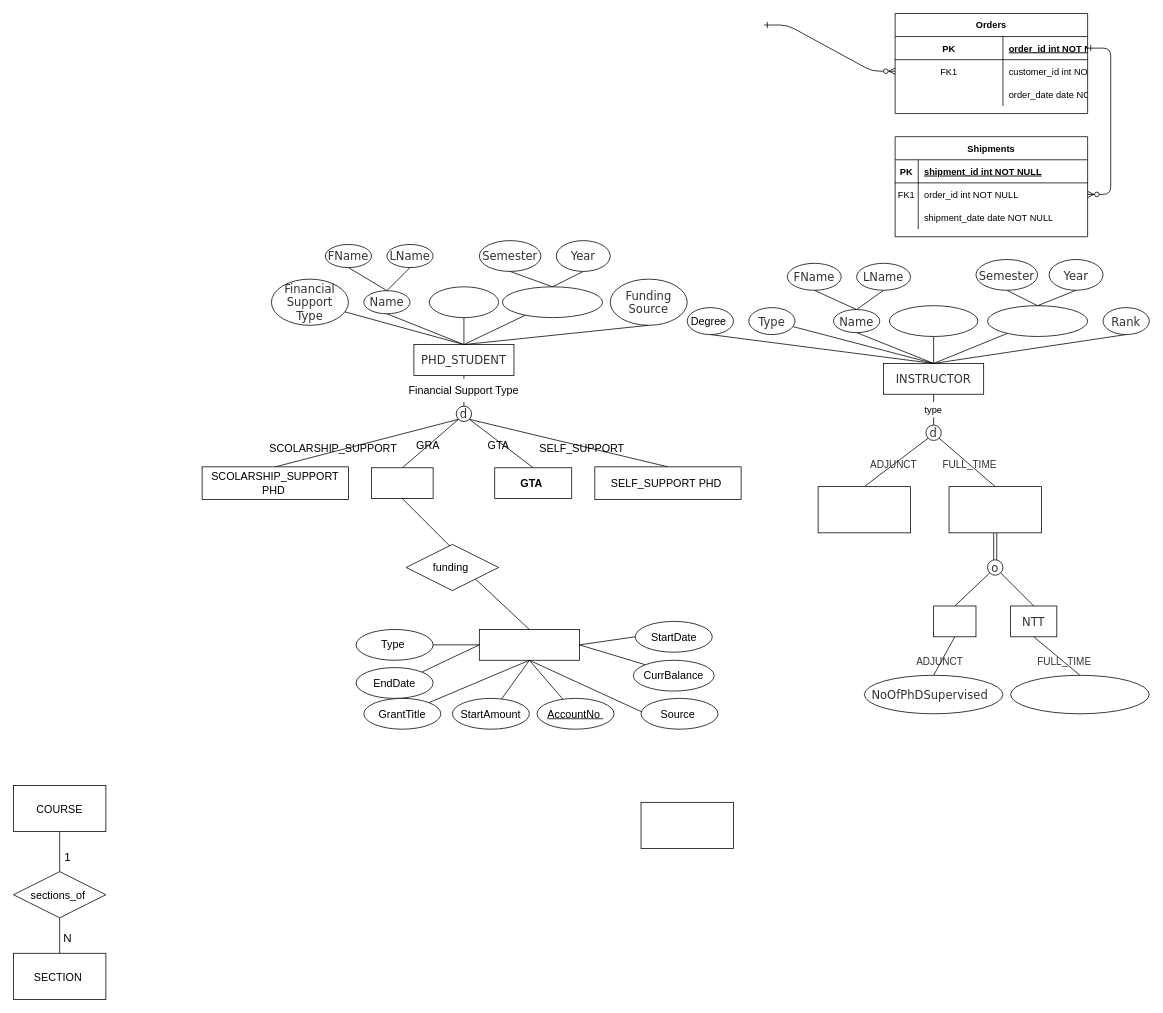
This 1163x1013 diagram has some shape labels left out. The centre of each missing label's shape, as x and y in pixels:
ADJUNCT INSTRUCTOR: [864,509]
CoursesTaught: [1079,694]
FULL_TIME INSTRUCTOR: [994,509]
GRA: [402,483]
GRANT: [529,644]
InstructorID: [933,320]
MILESTONE: [686,825]
StartDate: [1037,320]
StartSemester: [552,302]
StudentId: [464,302]
TT: [954,621]
